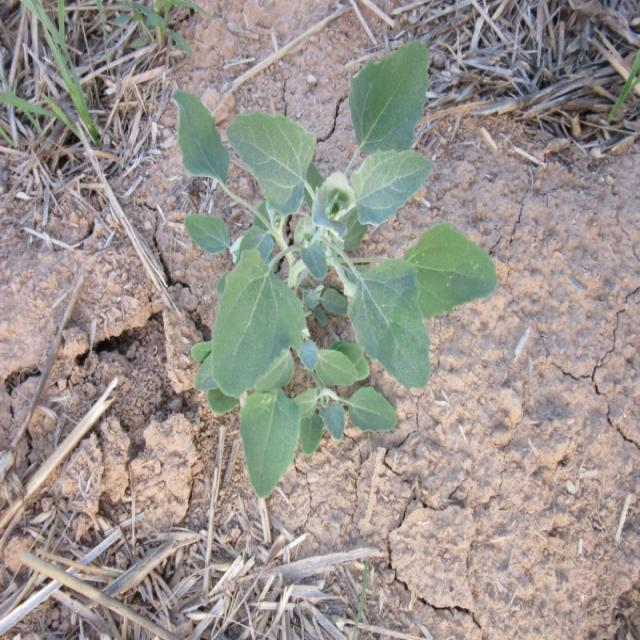ca: (164, 44, 500, 492)
